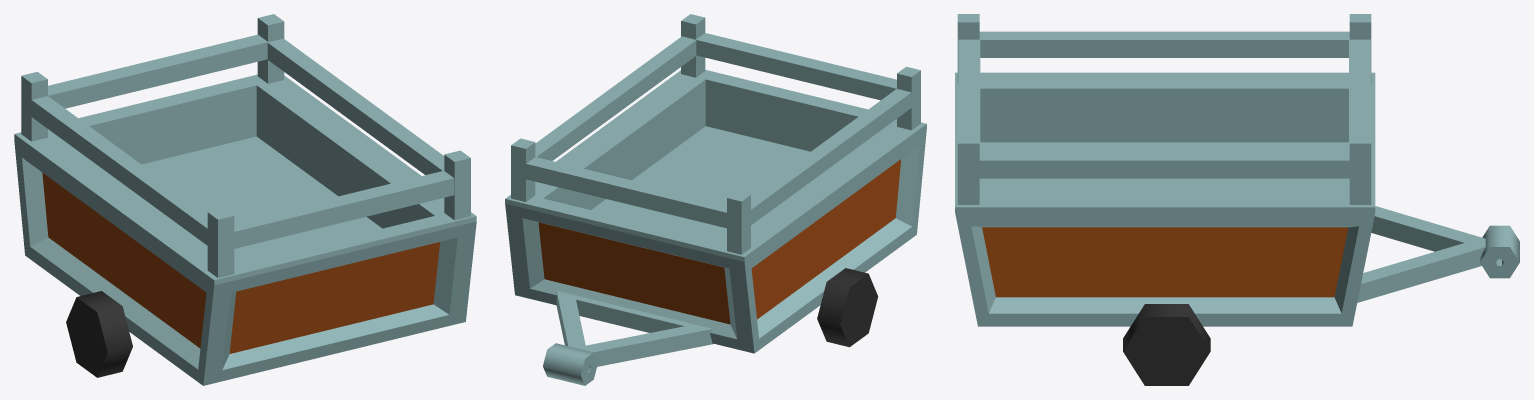
File: Cart_2.FBX
The picture shows the model from 3 angles, left to right: view 1: azimuth 30°, elevation 25°; view 2: azimuth 150°, elevation 25°; view 3: azimuth 270°, elevation 25°; orthographic projection. The views are drawn at different scales.
Parts seen in each view (by area): view 1: Cart_2; view 2: Cart_2; view 3: Cart_2.
Boxes of the visible parts, left/top/right/bottom form: Cart_2: left=14, top=14, right=476, bottom=385; Cart_2: left=505, top=14, right=926, bottom=385; Cart_2: left=955, top=14, right=1519, bottom=385.
Bounding box in the file's own units: 2.99 × 1.96 × 4.42.
Materials: 1 (1 with a texture image).
